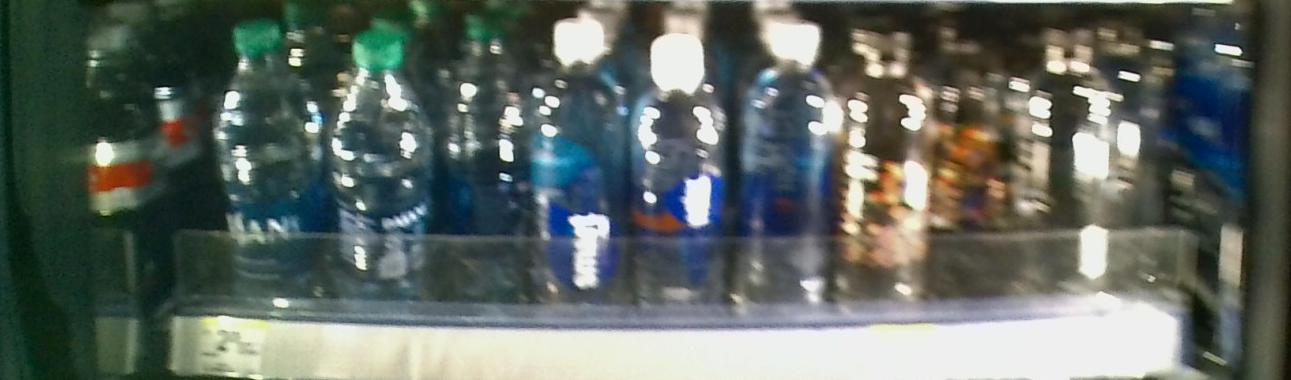bottle: (212, 16, 324, 311), (529, 20, 626, 309), (737, 16, 831, 313), (630, 30, 726, 316), (331, 33, 428, 304), (841, 37, 933, 315), (437, 12, 522, 308)
